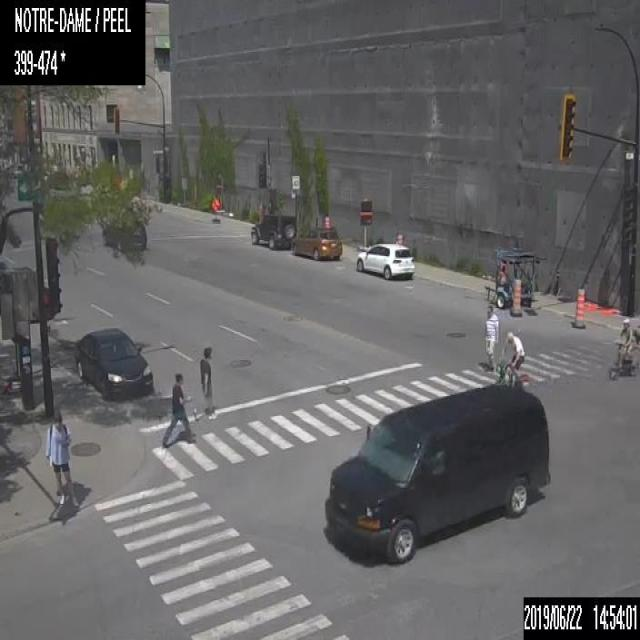construction: (359, 197, 373, 257), (572, 284, 584, 329), (508, 278, 522, 314), (210, 195, 220, 221), (322, 212, 329, 227), (396, 232, 403, 241)
cyclist: (496, 328, 530, 388), (609, 316, 639, 380)
pedestrian: (43, 413, 78, 507), (161, 372, 195, 445), (199, 345, 216, 416), (483, 303, 499, 372)
vehicle: (324, 381, 549, 563), (74, 326, 152, 398), (484, 247, 539, 308), (354, 240, 416, 279), (250, 211, 298, 251), (291, 226, 341, 262), (104, 219, 147, 249)
